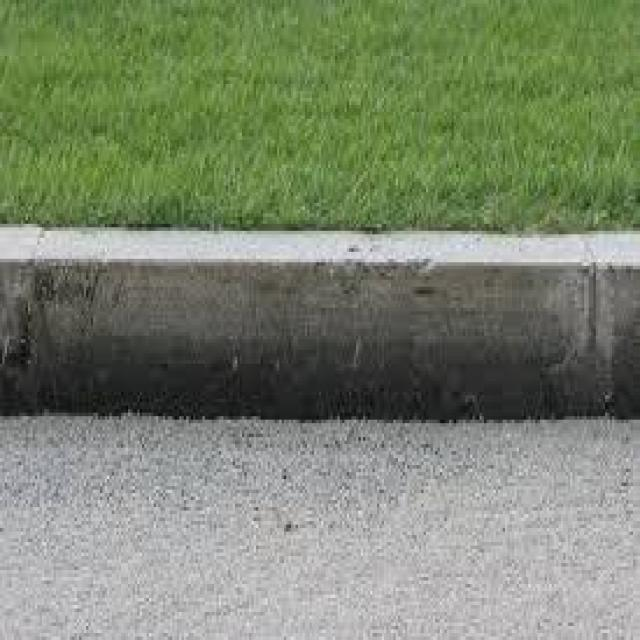curb: (1, 218, 640, 442)
